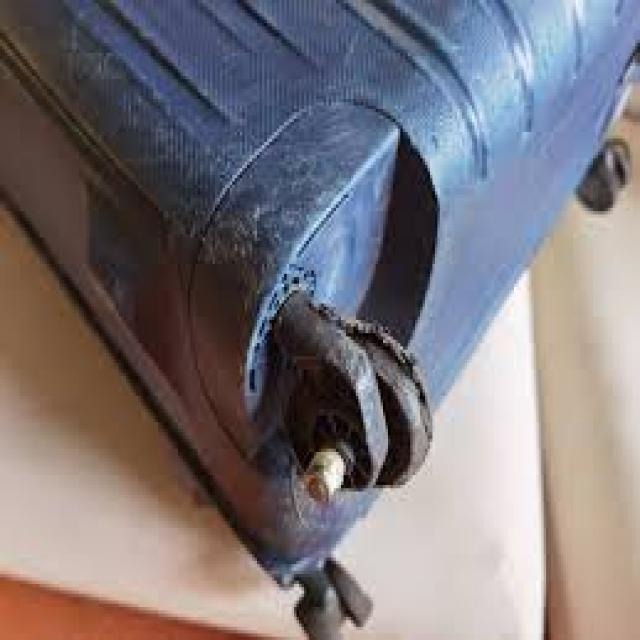Damage-bag: (245, 264, 430, 440)
